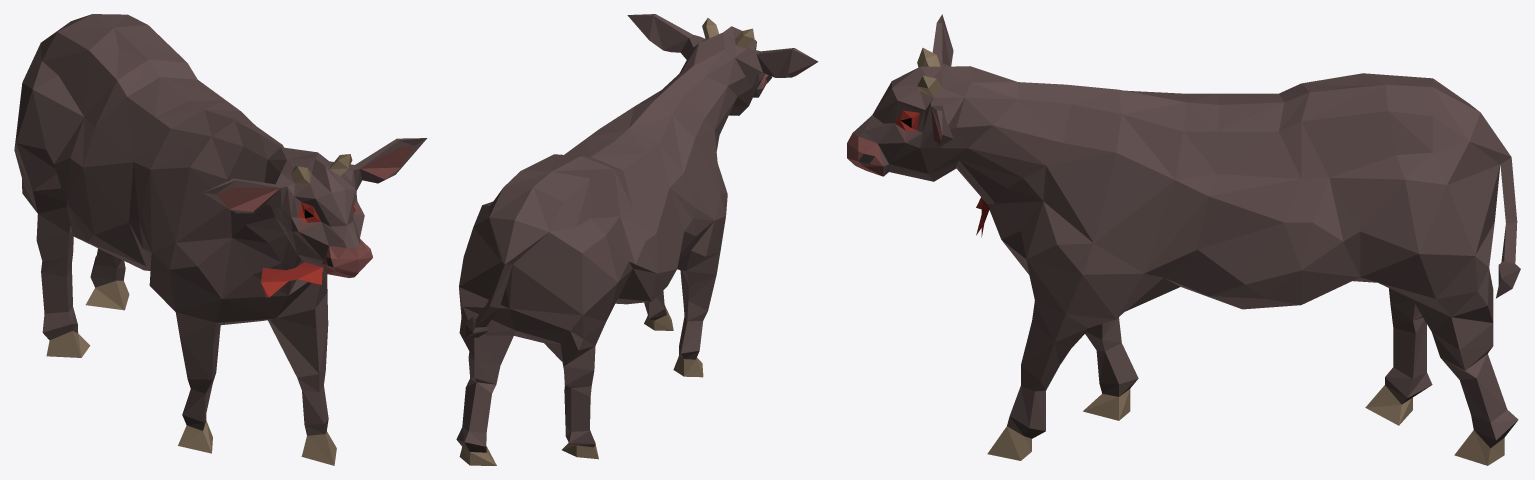
3 renders of one model, left to right at view 1: azimuth 30°, elevation 25°; view 2: azimuth 150°, elevation 25°; view 3: azimuth 270°, elevation 25°, orthographic. The views are drawn at different scales.
Size of the model in its own units: 102 by 147 by 240.
1 material, 1 textured.
